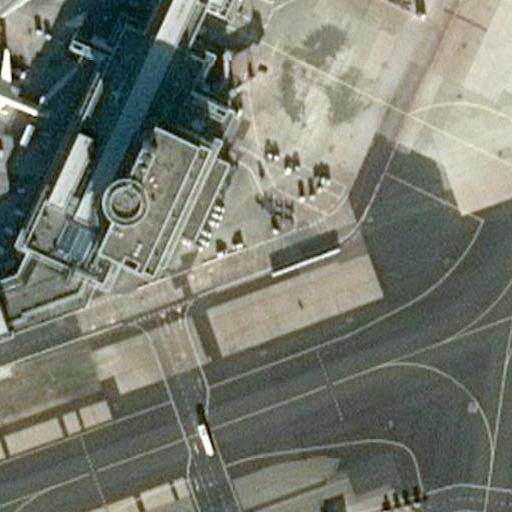Aircraft: (0, 41, 45, 131)
